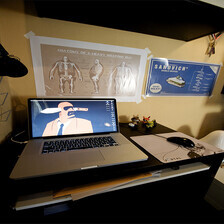laptop: (4, 89, 143, 191)
